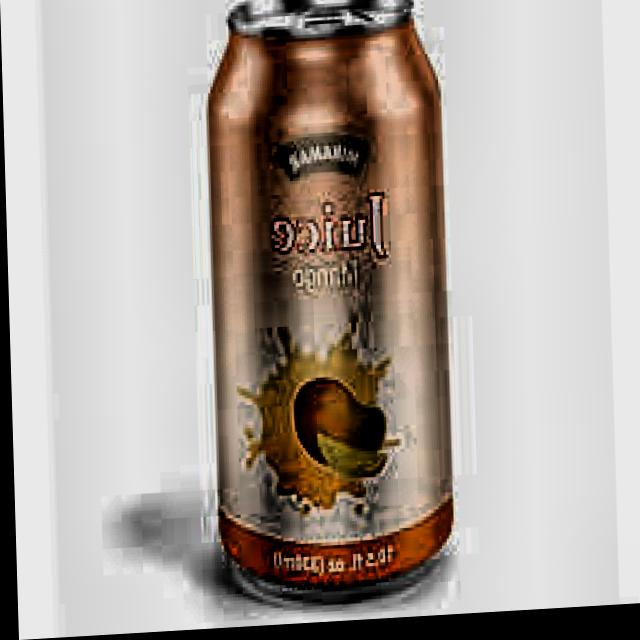can: (193, 0, 465, 618)
